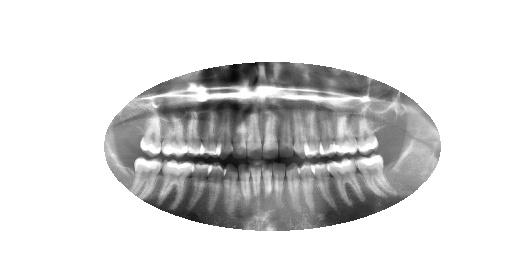Fillings: (356, 154, 397, 198)
